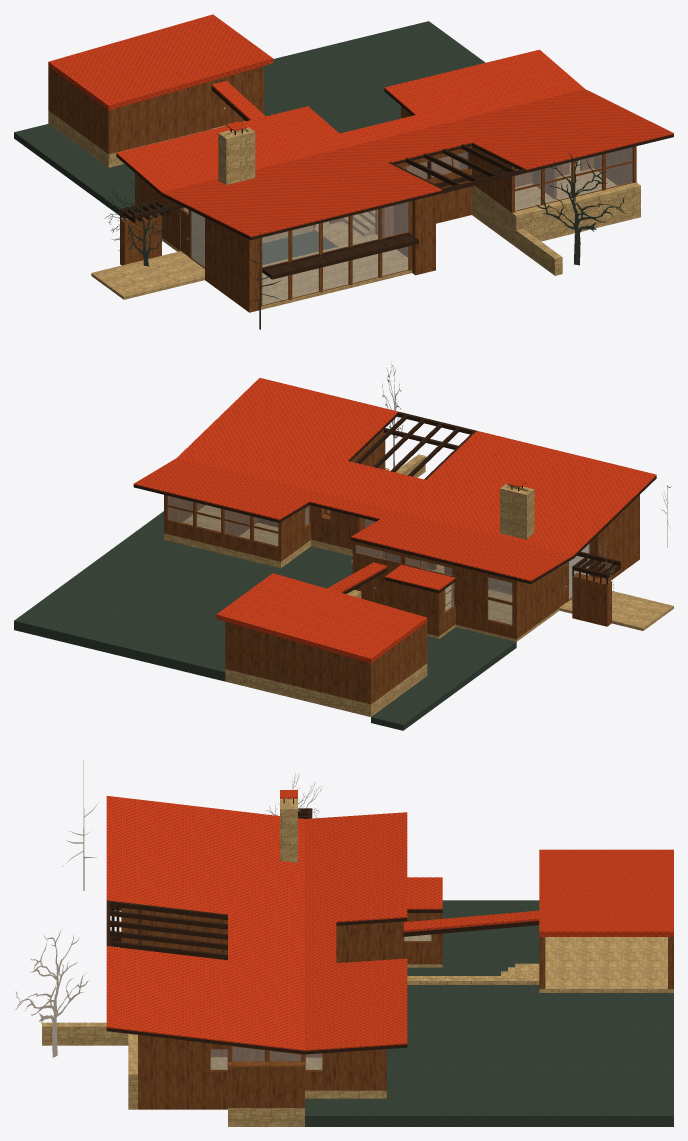
The picture shows the model from 3 angles, top to bottom: view 1: azimuth 30°, elevation 25°; view 2: azimuth 150°, elevation 25°; view 3: azimuth 270°, elevation 25°; orthographic projection. The views are drawn at different scales.
Visible parts, largest first — view 1: 15281, 15280, 15282, Grupo#30 (×8), 15283, Grupo#32 (×2), Tree_2D_Winter_3, Tree_2D_Winter_HighLine, Grupo#34 (×2), 15284, 6585, 6586 (+3 smaller); view 2: 15281, 15280, 15282, 15283, Grupo#39; view 3: 15281, 15280, 15282, Grupo#22 (×5), Tree_2D_Winter_3, 15283, 15298.
Part boxes in pixels (x1=…): 15281: x1=48, y1=14, x2=673, y2=240; 15280: x1=14, y1=21, x2=640, y2=309; 15282: x1=48, y1=66, x2=636, y2=312; Grupo#30 (×8): x1=262, y1=202, x2=408, y2=305; 15283: x1=218, y1=121, x2=312, y2=243; Grupo#32 (×2): x1=292, y1=223, x2=319, y2=298; Tree_2D_Winter_3: x1=535, y1=152, x2=625, y2=265; Tree_2D_Winter_HighLine: x1=101, y1=178, x2=174, y2=266; Grupo#34 (×2): x1=515, y1=177, x2=571, y2=211; 15284: x1=262, y1=233, x2=418, y2=279; 6585: x1=190, y1=211, x2=204, y2=267; 6586: x1=192, y1=212, x2=204, y2=266; 15281: x1=133, y1=378, x2=656, y2=663; 15280: x1=14, y1=454, x2=673, y2=730; 15282: x1=164, y1=429, x2=639, y2=704; 15283: x1=489, y1=478, x2=534, y2=594; Grupo#39: x1=487, y1=599, x2=512, y2=625; 15281: x1=106, y1=796, x2=673, y2=1054; 15280: x1=42, y1=900, x2=673, y2=1126; 15282: x1=121, y1=808, x2=673, y2=1109; Grupo#22 (×5): x1=110, y1=901, x2=227, y2=960; Tree_2D_Winter_3: x1=14, y1=929, x2=88, y2=1057; 15283: x1=280, y1=790, x2=297, y2=862; 15298: x1=403, y1=921, x2=539, y2=936.
Size of what is drawn, in the model's own units: 27.1 by 6.49 by 27.46.
Materials: 1590 (1492 with a texture image).
